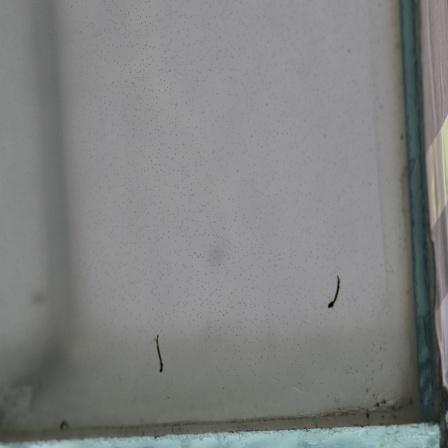Jentik-Nyamuk: (326, 273, 345, 311), (153, 331, 167, 375)
